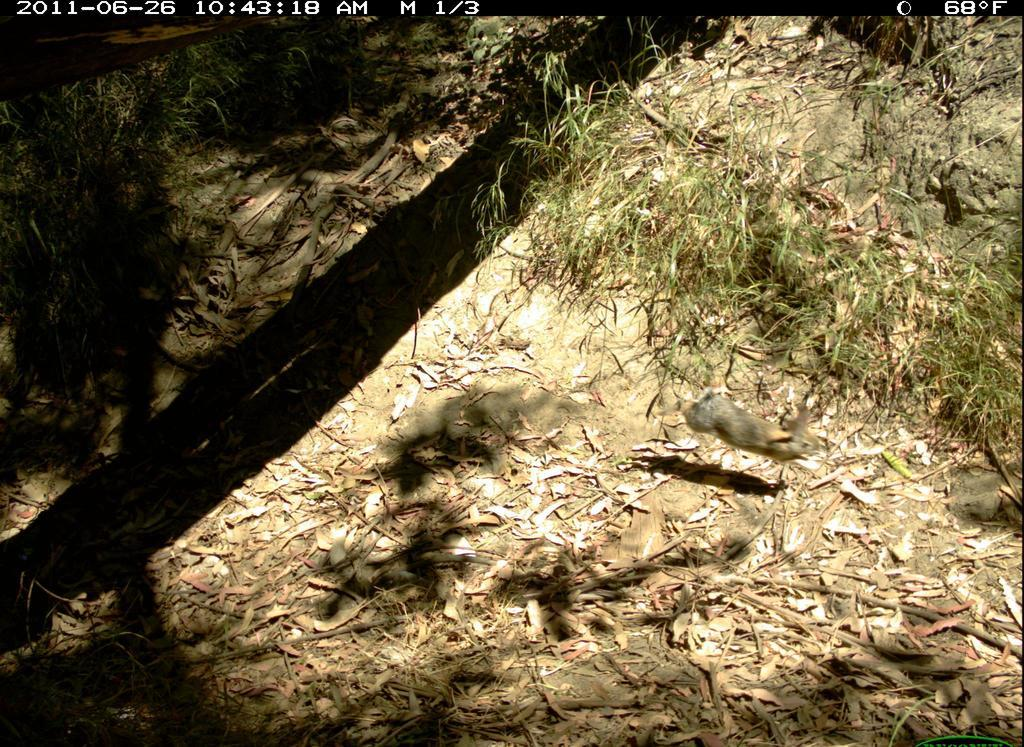rabbit: (676, 354, 858, 493)
